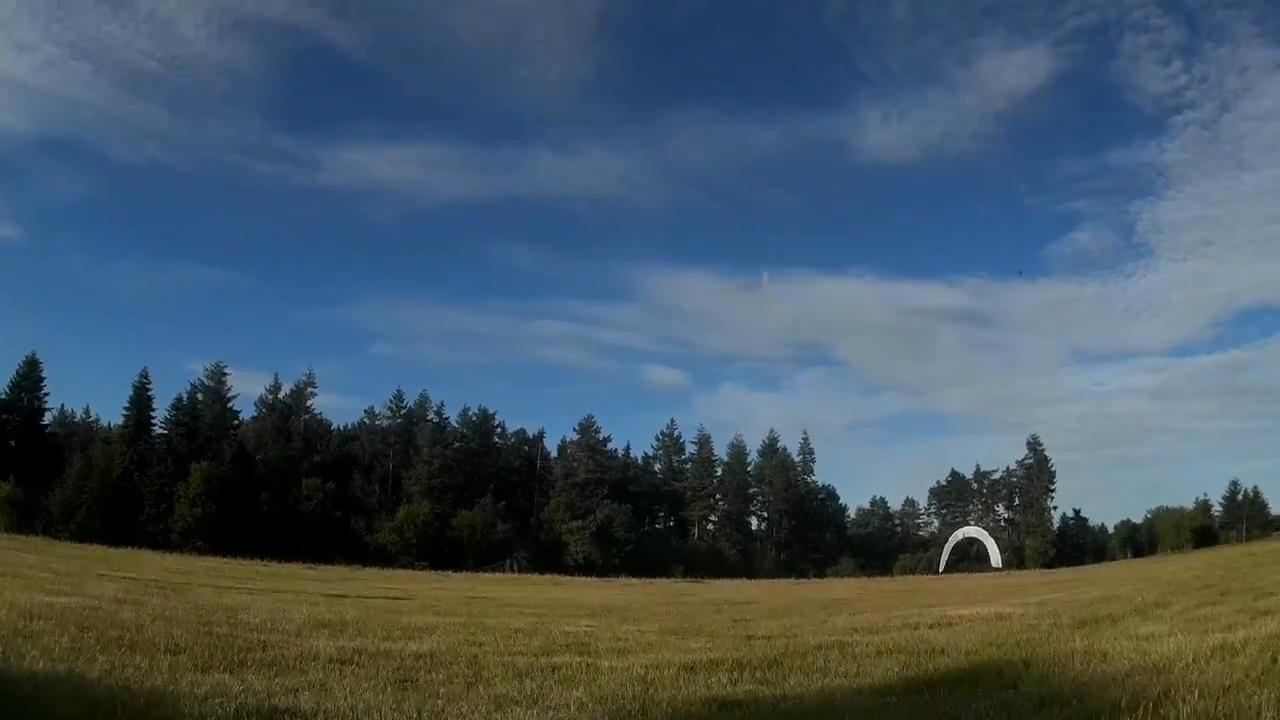gate: (939, 525, 997, 574)
